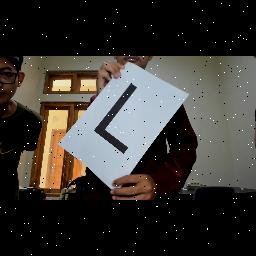l: (92, 81, 144, 159)
